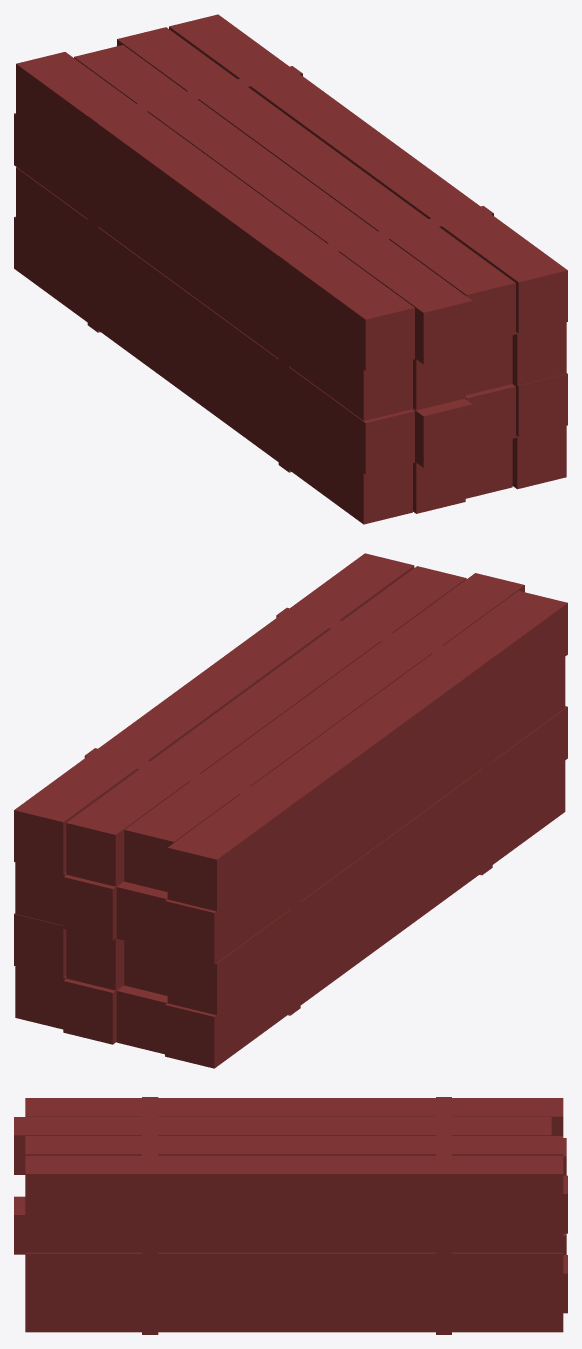
The model's file is SM_WoodBeamPack01.fbx.
3 renders of one model, top to bottom at view 1: azimuth 30°, elevation 25°; view 2: azimuth 150°, elevation 25°; view 3: azimuth 270°, elevation 25°, orthographic. The views are drawn at different scales.
Parts seen in each view (by area): view 1: WoodBeamPack01; view 2: WoodBeamPack01; view 3: WoodBeamPack01.
Boxes of the visible parts, x1,y1,x2,y2 form: WoodBeamPack01: [14, 14, 567, 524]; WoodBeamPack01: [14, 553, 567, 1068]; WoodBeamPack01: [14, 1097, 567, 1334].
Size of the model in its own units: 30.44 by 29.71 by 92.71.
